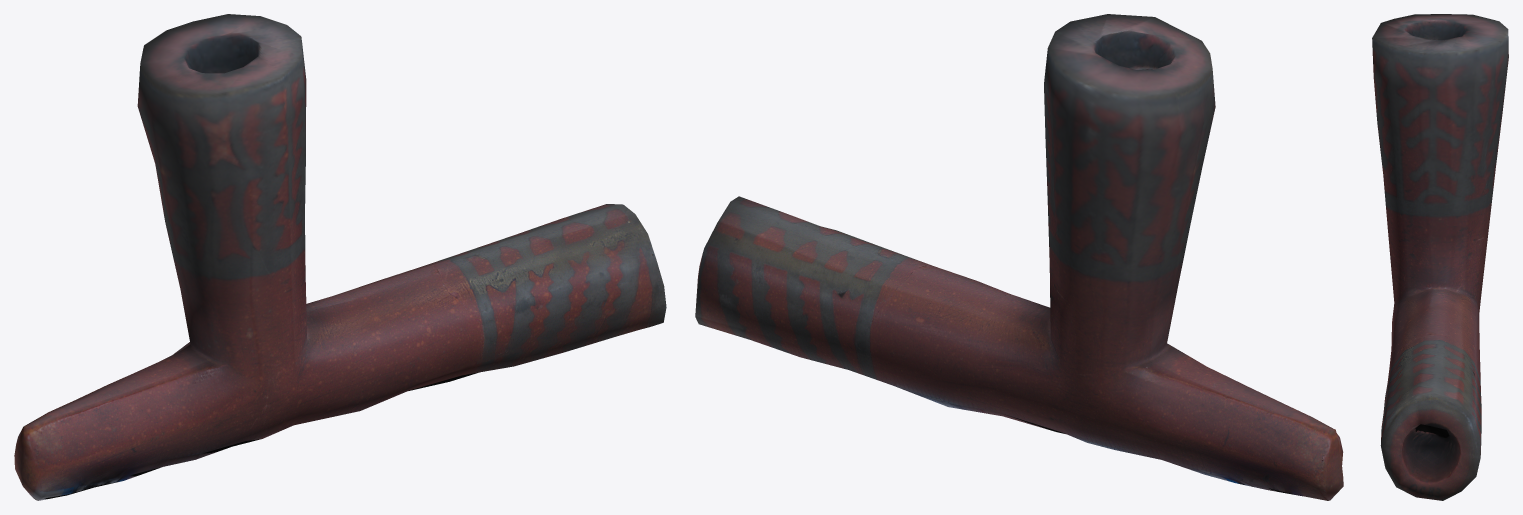
File: RedPipe.glb
3 renders of one model, left to right at view 1: azimuth 30°, elevation 25°; view 2: azimuth 150°, elevation 25°; view 3: azimuth 270°, elevation 25°, orthographic. The views are drawn at different scales.
Parts seen in each view (by area): view 1: pipe2-BLEND-AGI; view 2: pipe2-BLEND-AGI; view 3: pipe2-BLEND-AGI.
Boxes of the visible parts, x1,y1,x2,y2 form: pipe2-BLEND-AGI: [14, 14, 666, 500]; pipe2-BLEND-AGI: [695, 14, 1343, 500]; pipe2-BLEND-AGI: [1372, 14, 1508, 500].
Bounding box in the file's own units: 3.12 × 1.95 × 0.7231.
Materials: 1 (1 with a texture image).
